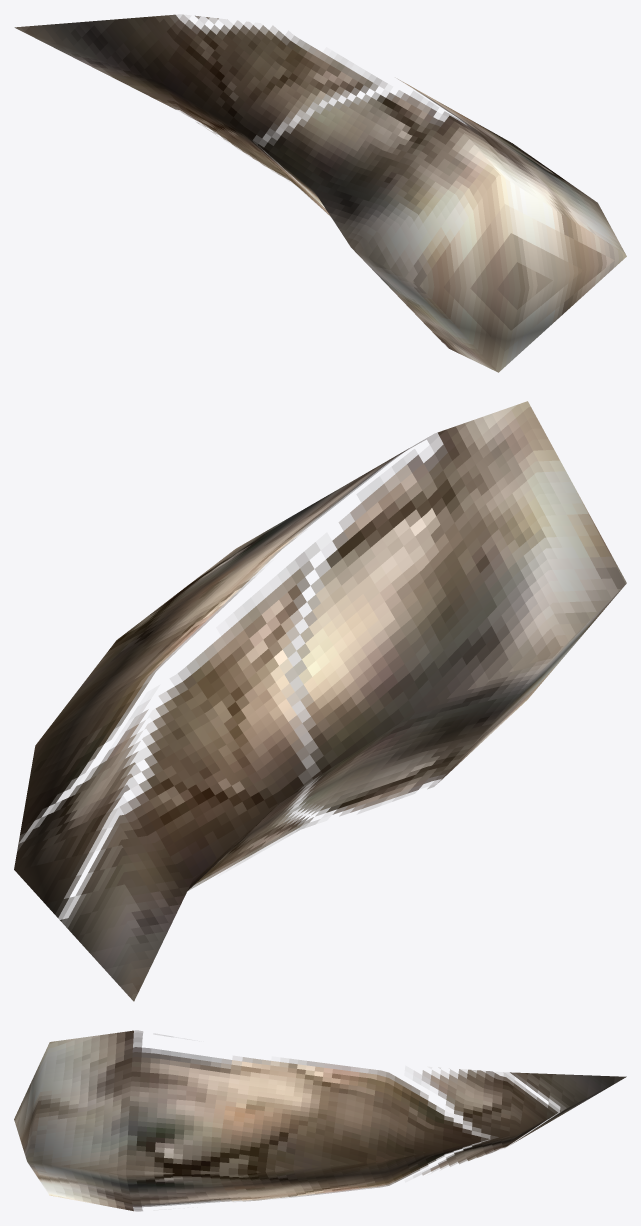
File: EventBloodCastle01.glb
3 renders of one model, top to bottom at view 1: azimuth 30°, elevation 25°; view 2: azimuth 150°, elevation 25°; view 3: azimuth 270°, elevation 25°, orthographic. The views are drawn at different scales.
Parts seen in each view (by area): view 1: model_EventBloodCastle01; view 2: model_EventBloodCastle01; view 3: model_EventBloodCastle01.
Part boxes in pixels (x1=…): model_EventBloodCastle01: x1=14, y1=14, x2=626, y2=372; model_EventBloodCastle01: x1=14, y1=401, x2=626, y2=1001; model_EventBloodCastle01: x1=14, y1=1030, x2=626, y2=1211.
Size of the model in its own units: 0.3782 by 0.3289 by 1.01.
Materials: 1 (1 with a texture image).
